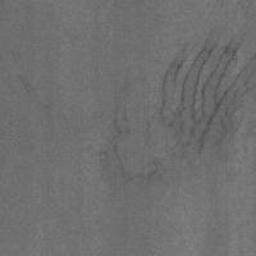Water spot: (97, 23, 256, 211), (8, 50, 56, 129), (212, 0, 227, 12)
